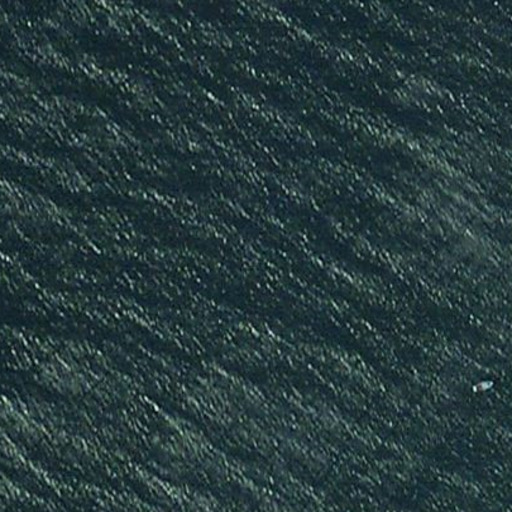ship: (469, 378, 498, 396)
